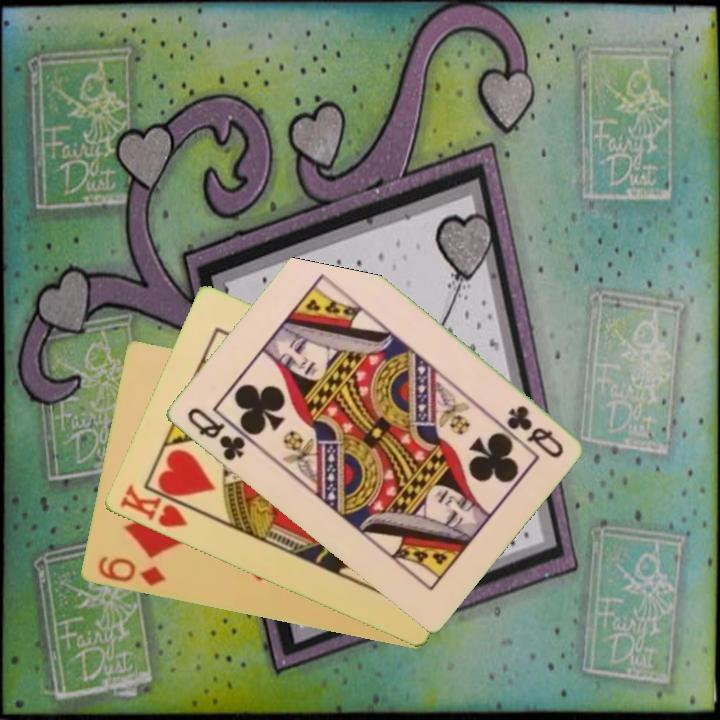6d: (94, 553, 169, 590)
Kh: (116, 480, 201, 531)
Qc: (183, 403, 256, 464), (502, 401, 566, 462)
